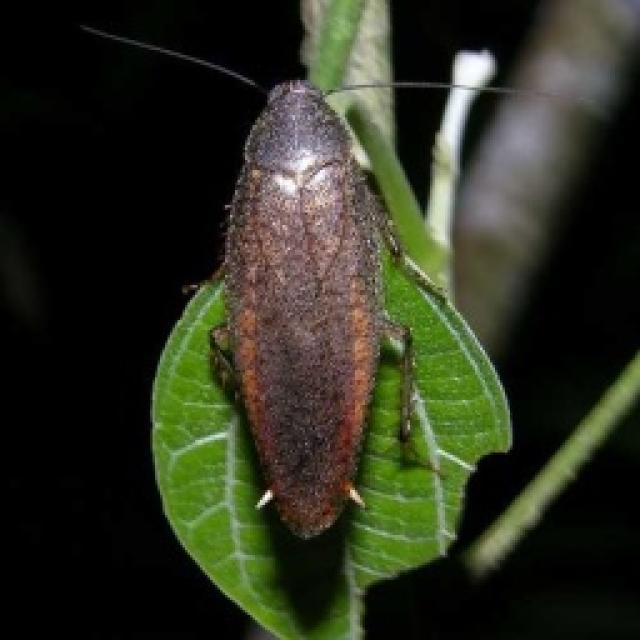cockroach: (213, 78, 397, 541)
